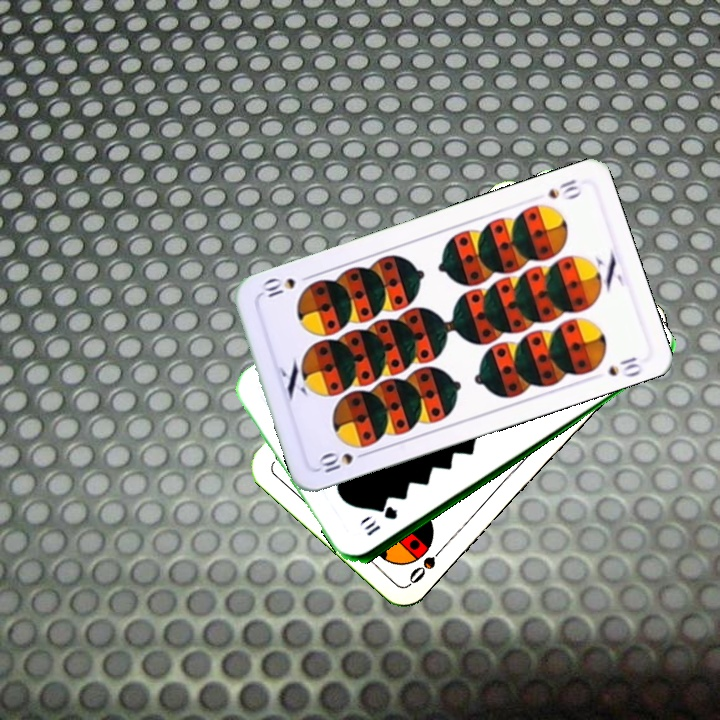G10: (361, 504, 400, 539)
S10: (315, 447, 372, 476), (543, 175, 585, 203)
SO: (404, 539, 450, 587)
